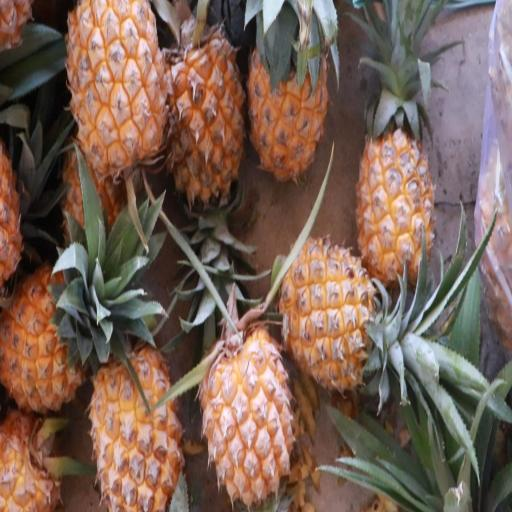Pineapple - v8 v1: (353, 58, 440, 300), (62, 4, 170, 190), (198, 320, 299, 512), (278, 229, 390, 394), (156, 23, 250, 214), (84, 335, 184, 512), (246, 0, 333, 186), (3, 251, 92, 420)
